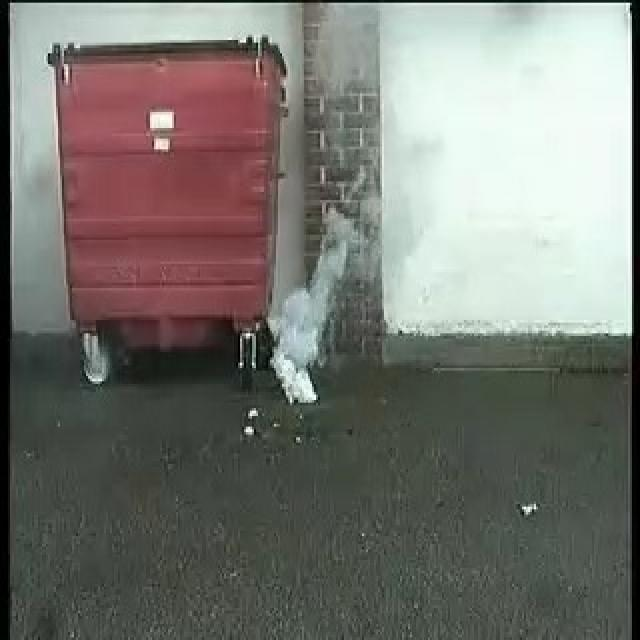smoke: (270, 117, 398, 404)
